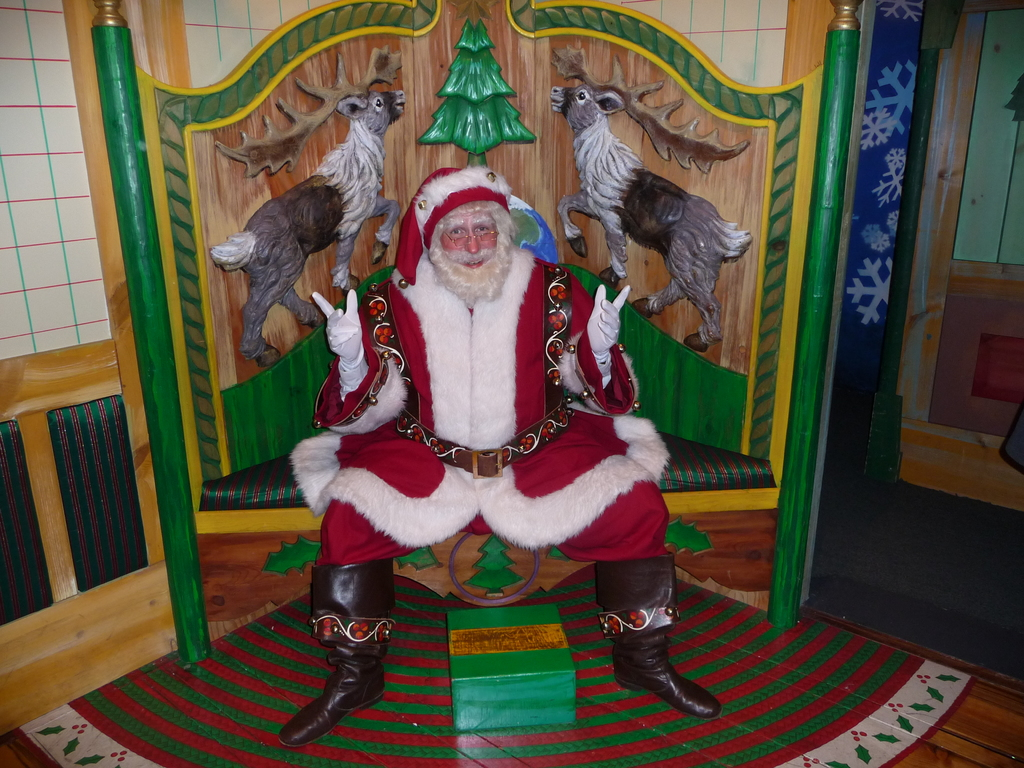Animal: (211, 42, 408, 369), (542, 42, 752, 348)
